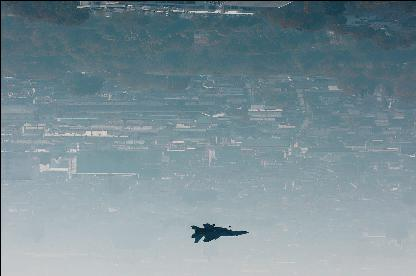F117: (190, 223, 248, 243)
